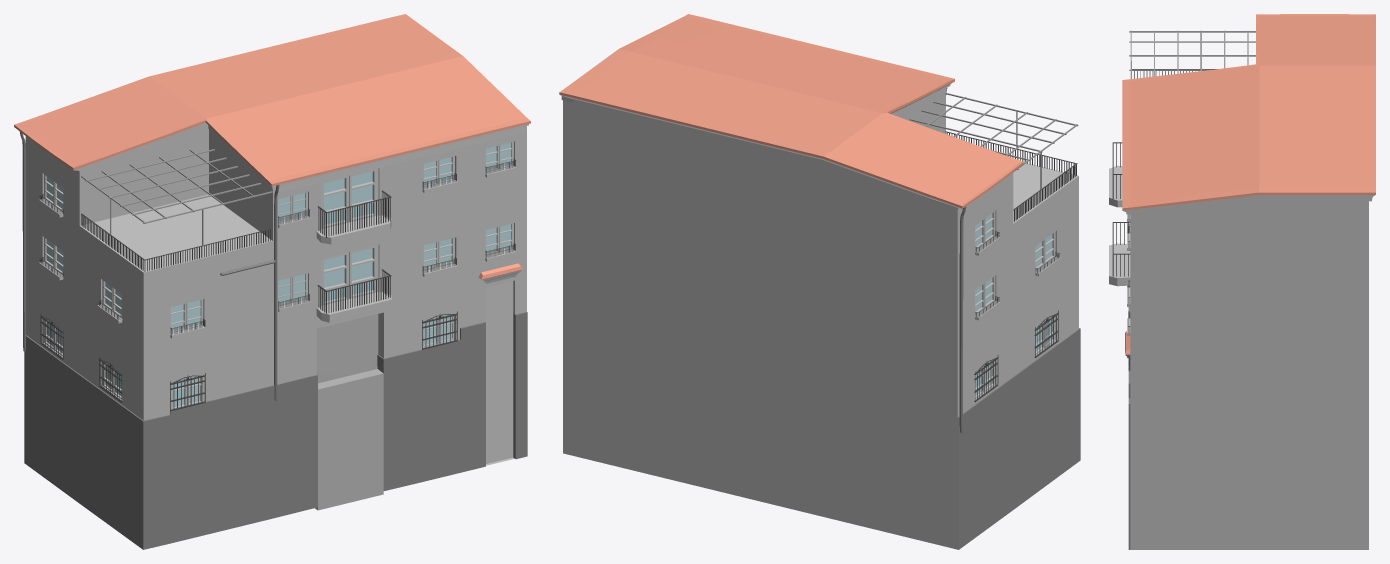
The model's file is 11_Casa_Benarraba_Rafael_Vilar.fbx.
The picture shows the model from 3 angles, left to right: view 1: azimuth 30°, elevation 25°; view 2: azimuth 150°, elevation 25°; view 3: azimuth 270°, elevation 25°; orthographic projection. The views are drawn at different scales.
Parts seen in each view (by area): view 1: Home, Madera_Ventanas_Inferior.001, Rejas.002, Cube.080, Cube.084, tube.001, tube; view 2: Home, Rejas.002, Cube.080, Madera_Ventanas_Inferior.001, Cube.084, tube; view 3: Home, Cube.080, Rejas.002.
Part boxes in pixels (box(x1,y1,x2,y2)): Home: box(14, 14, 530, 549); Madera_Ventanas_Inferior.001: box(44, 141, 513, 409); Rejas.002: box(39, 158, 515, 334); Cube.080: box(81, 149, 272, 245); Cube.084: box(40, 311, 457, 411); tube.001: box(220, 185, 279, 400); tube: box(19, 131, 25, 351); Home: box(559, 14, 1080, 549); Rejas.002: box(945, 131, 1077, 316); Cube.080: box(909, 92, 1078, 189); Madera_Ventanas_Inferior.001: box(975, 211, 1055, 398); Cube.084: box(974, 310, 1058, 402); tube: box(959, 206, 966, 433); Home: box(1109, 14, 1375, 549); Cube.080: box(1129, 30, 1255, 78); Rejas.002: box(1112, 69, 1217, 332).
Bounding box in the file's own units: 1771 × 1537 × 1029.
